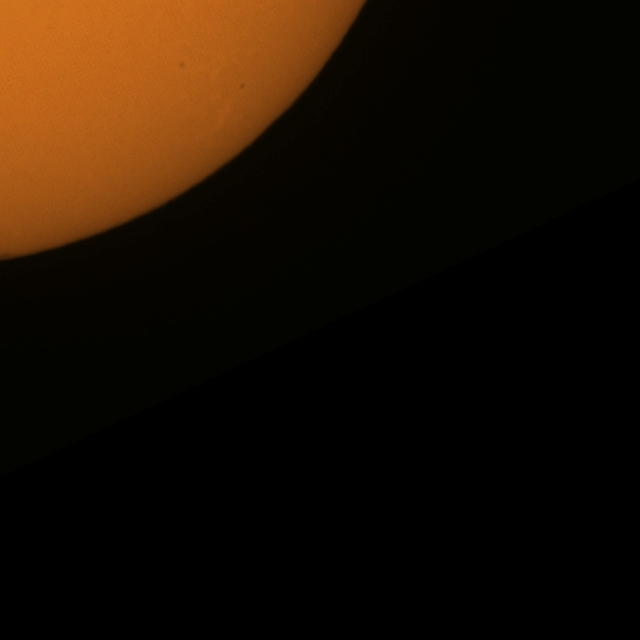sunspot: (178, 60, 186, 70), (239, 82, 246, 90)
